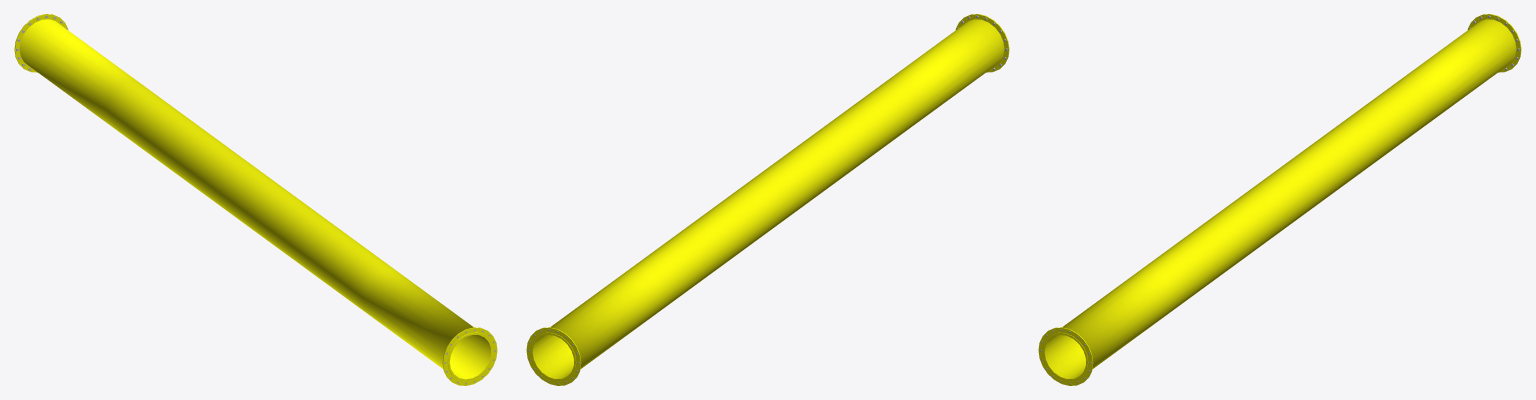
The model's file is straight.dae.
3 views of the same model, side by side, from view 1: azimuth 30°, elevation 25°; view 2: azimuth 150°, elevation 25°; view 3: azimuth 330°, elevation 25° (orthographic).
Visible parts, largest first — view 1: segment2_straight; view 2: segment2_straight; view 3: segment2_straight.
Part boxes in pixels (x1,y1,x2,y2): segment2_straight: [14, 14, 497, 385]; segment2_straight: [526, 14, 1009, 385]; segment2_straight: [1038, 14, 1521, 385].
Bounding box in the file's own units: 0.7315 × 10 × 0.7241.
